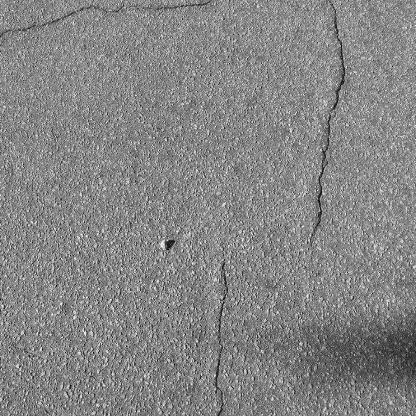Cracks: (252, 0, 351, 252), (0, 0, 250, 48), (212, 252, 233, 416)
